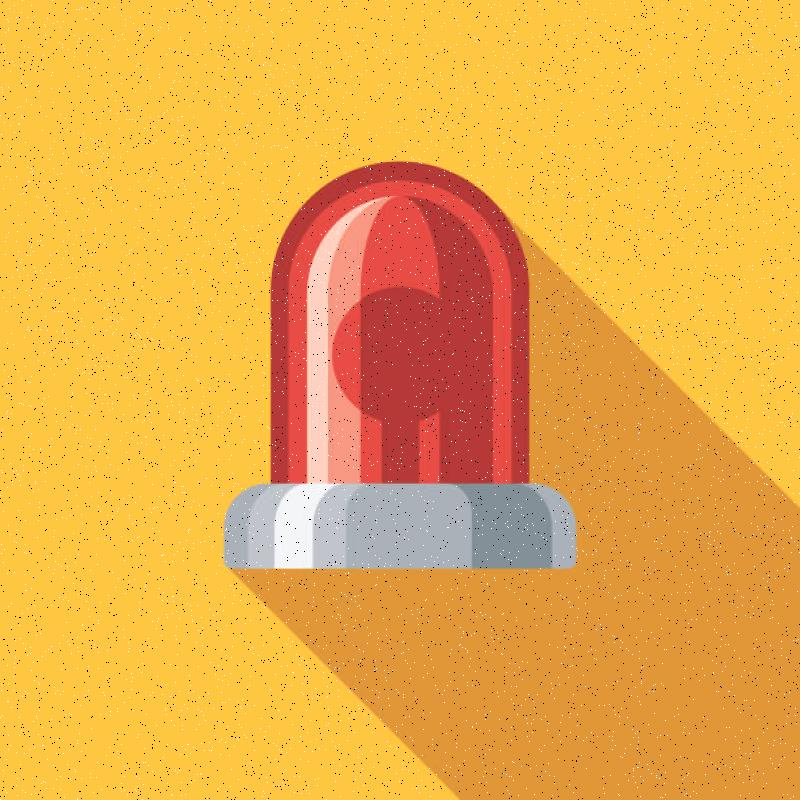AmbulanceSiren: (170, 127, 680, 660)
